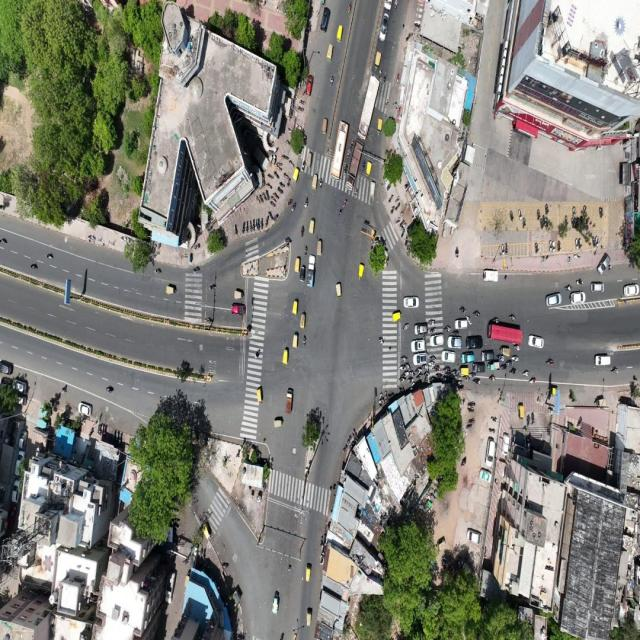3W: (267, 584, 282, 614), (253, 382, 266, 410), (334, 19, 346, 46), (162, 282, 178, 300), (371, 48, 382, 73), (271, 410, 284, 431), (202, 518, 212, 544), (319, 112, 329, 138), (367, 179, 377, 205), (333, 279, 344, 301), (303, 562, 314, 584), (357, 259, 366, 285), (325, 42, 335, 65), (280, 346, 289, 369), (292, 166, 301, 189), (391, 307, 402, 325), (291, 328, 300, 349), (376, 117, 385, 137), (366, 158, 374, 180), (306, 605, 313, 630), (299, 311, 308, 329), (316, 238, 324, 258), (518, 402, 526, 422), (292, 297, 300, 316), (295, 252, 301, 277), (306, 151, 315, 167), (488, 361, 500, 373), (309, 216, 316, 236), (312, 173, 319, 192), (499, 347, 512, 357), (300, 263, 306, 282)
Bus: (331, 115, 349, 185), (487, 322, 525, 344)
Cars: (375, 9, 392, 47), (302, 67, 317, 97), (75, 399, 96, 420), (483, 437, 497, 467), (466, 525, 482, 551), (401, 293, 421, 312), (13, 448, 26, 477), (17, 427, 33, 450), (588, 278, 607, 297), (479, 267, 501, 283), (9, 478, 21, 507), (544, 291, 562, 310), (597, 254, 612, 276), (320, 8, 333, 33), (528, 334, 545, 352), (568, 291, 587, 307), (465, 333, 484, 349), (408, 338, 426, 354), (623, 281, 639, 298), (592, 355, 612, 368), (446, 334, 462, 350), (12, 378, 30, 392), (229, 303, 246, 317), (411, 351, 429, 364), (414, 320, 429, 335), (461, 350, 477, 364), (430, 333, 444, 349), (471, 362, 488, 374), (481, 348, 496, 361), (443, 350, 458, 363), (454, 318, 468, 330)
LCV: (284, 386, 296, 415), (307, 255, 316, 291)
M2W: (43, 245, 58, 264), (231, 286, 247, 301), (102, 380, 117, 396), (252, 346, 265, 362), (598, 203, 606, 225), (454, 245, 463, 264), (206, 281, 218, 295), (27, 259, 39, 273), (465, 393, 477, 406), (327, 73, 337, 88), (339, 198, 351, 210), (487, 424, 499, 436), (190, 263, 201, 276), (360, 157, 367, 177), (283, 231, 292, 246), (508, 206, 515, 225), (521, 366, 531, 379), (528, 374, 538, 387), (594, 232, 601, 250), (576, 275, 585, 289), (402, 319, 411, 333), (300, 221, 306, 241), (505, 239, 511, 259), (534, 237, 540, 257), (535, 202, 541, 222), (581, 203, 589, 218), (428, 324, 438, 336), (300, 331, 307, 348), (346, 0, 353, 17), (233, 221, 240, 238), (387, 188, 394, 205), (204, 313, 213, 326), (376, 334, 385, 347), (304, 193, 310, 212), (343, 163, 350, 179), (544, 200, 551, 216), (152, 266, 163, 276), (610, 366, 620, 377), (544, 357, 555, 367), (507, 311, 518, 321), (394, 213, 403, 225), (571, 202, 577, 220), (563, 282, 575, 291), (473, 307, 482, 319), (443, 321, 452, 333), (399, 352, 408, 364), (290, 203, 298, 216), (288, 158, 296, 171), (500, 242, 506, 259), (579, 236, 585, 253), (489, 414, 499, 424), (298, 97, 309, 106), (467, 405, 476, 416), (398, 371, 407, 382), (400, 229, 407, 243), (278, 179, 286, 191), (383, 71, 389, 87), (556, 239, 562, 255), (388, 207, 395, 220), (302, 157, 307, 175), (280, 151, 289, 161), (296, 105, 306, 114), (348, 138, 357, 148), (522, 214, 527, 232), (531, 411, 537, 426), (509, 366, 517, 377), (467, 416, 478, 424), (256, 192, 261, 209), (517, 207, 522, 224), (303, 244, 309, 258), (244, 221, 250, 235), (273, 190, 280, 202), (286, 196, 293, 208), (377, 69, 383, 83), (490, 316, 502, 323), (490, 374, 497, 386), (459, 304, 468, 313), (511, 354, 520, 363), (497, 353, 506, 362), (428, 319, 437, 328), (513, 343, 521, 353), (319, 177, 325, 190), (265, 215, 271, 228), (353, 186, 359, 199), (409, 368, 416, 379), (574, 237, 579, 252), (253, 218, 258, 232), (282, 171, 289, 181), (346, 147, 351, 161), (475, 377, 482, 387), (417, 363, 424, 373), (432, 367, 442, 374), (267, 171, 273, 182), (467, 315, 473, 326), (548, 238, 552, 254), (394, 193, 401, 202), (395, 203, 401, 213), (527, 414, 531, 429), (263, 191, 267, 203)
Truck: (353, 70, 380, 142)
